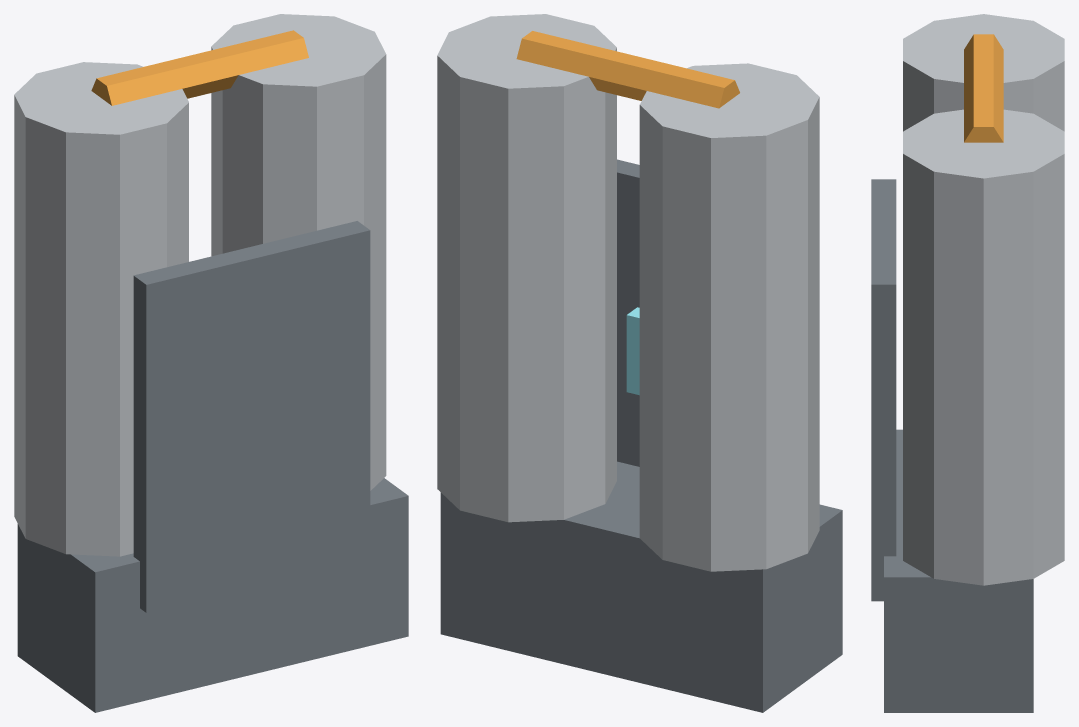
The model's file is mod-line-mech-back-26901.glb.
3 views of the same model, side by side, from view 1: azimuth 30°, elevation 25°; view 2: azimuth 150°, elevation 25°; view 3: azimuth 270°, elevation 25° (orthographic). The views are drawn at different scales.
Bounding box in the file's own units: 3.29 × 5.2 × 1.63.
